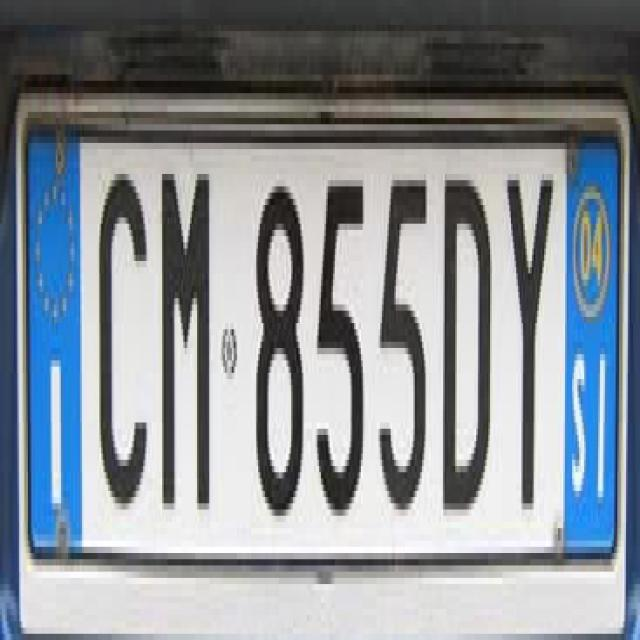EU: (22, 104, 621, 565)
Italie: (28, 126, 80, 570)
